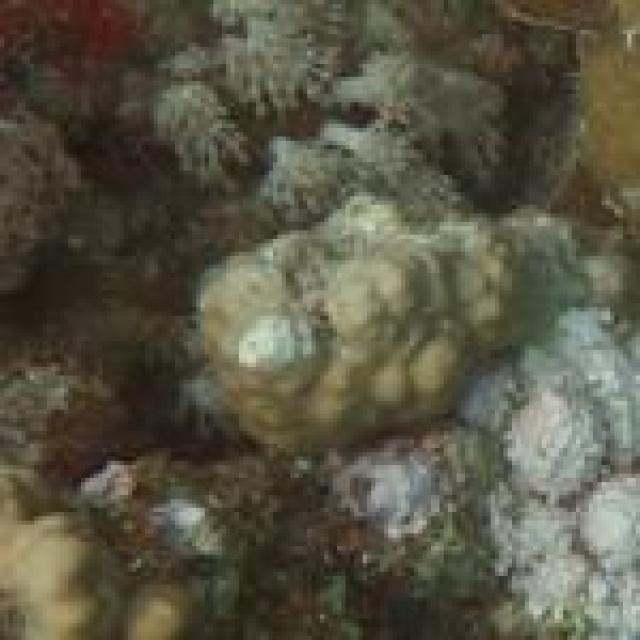Bleached Coral: (183, 0, 484, 204), (485, 320, 640, 640)
